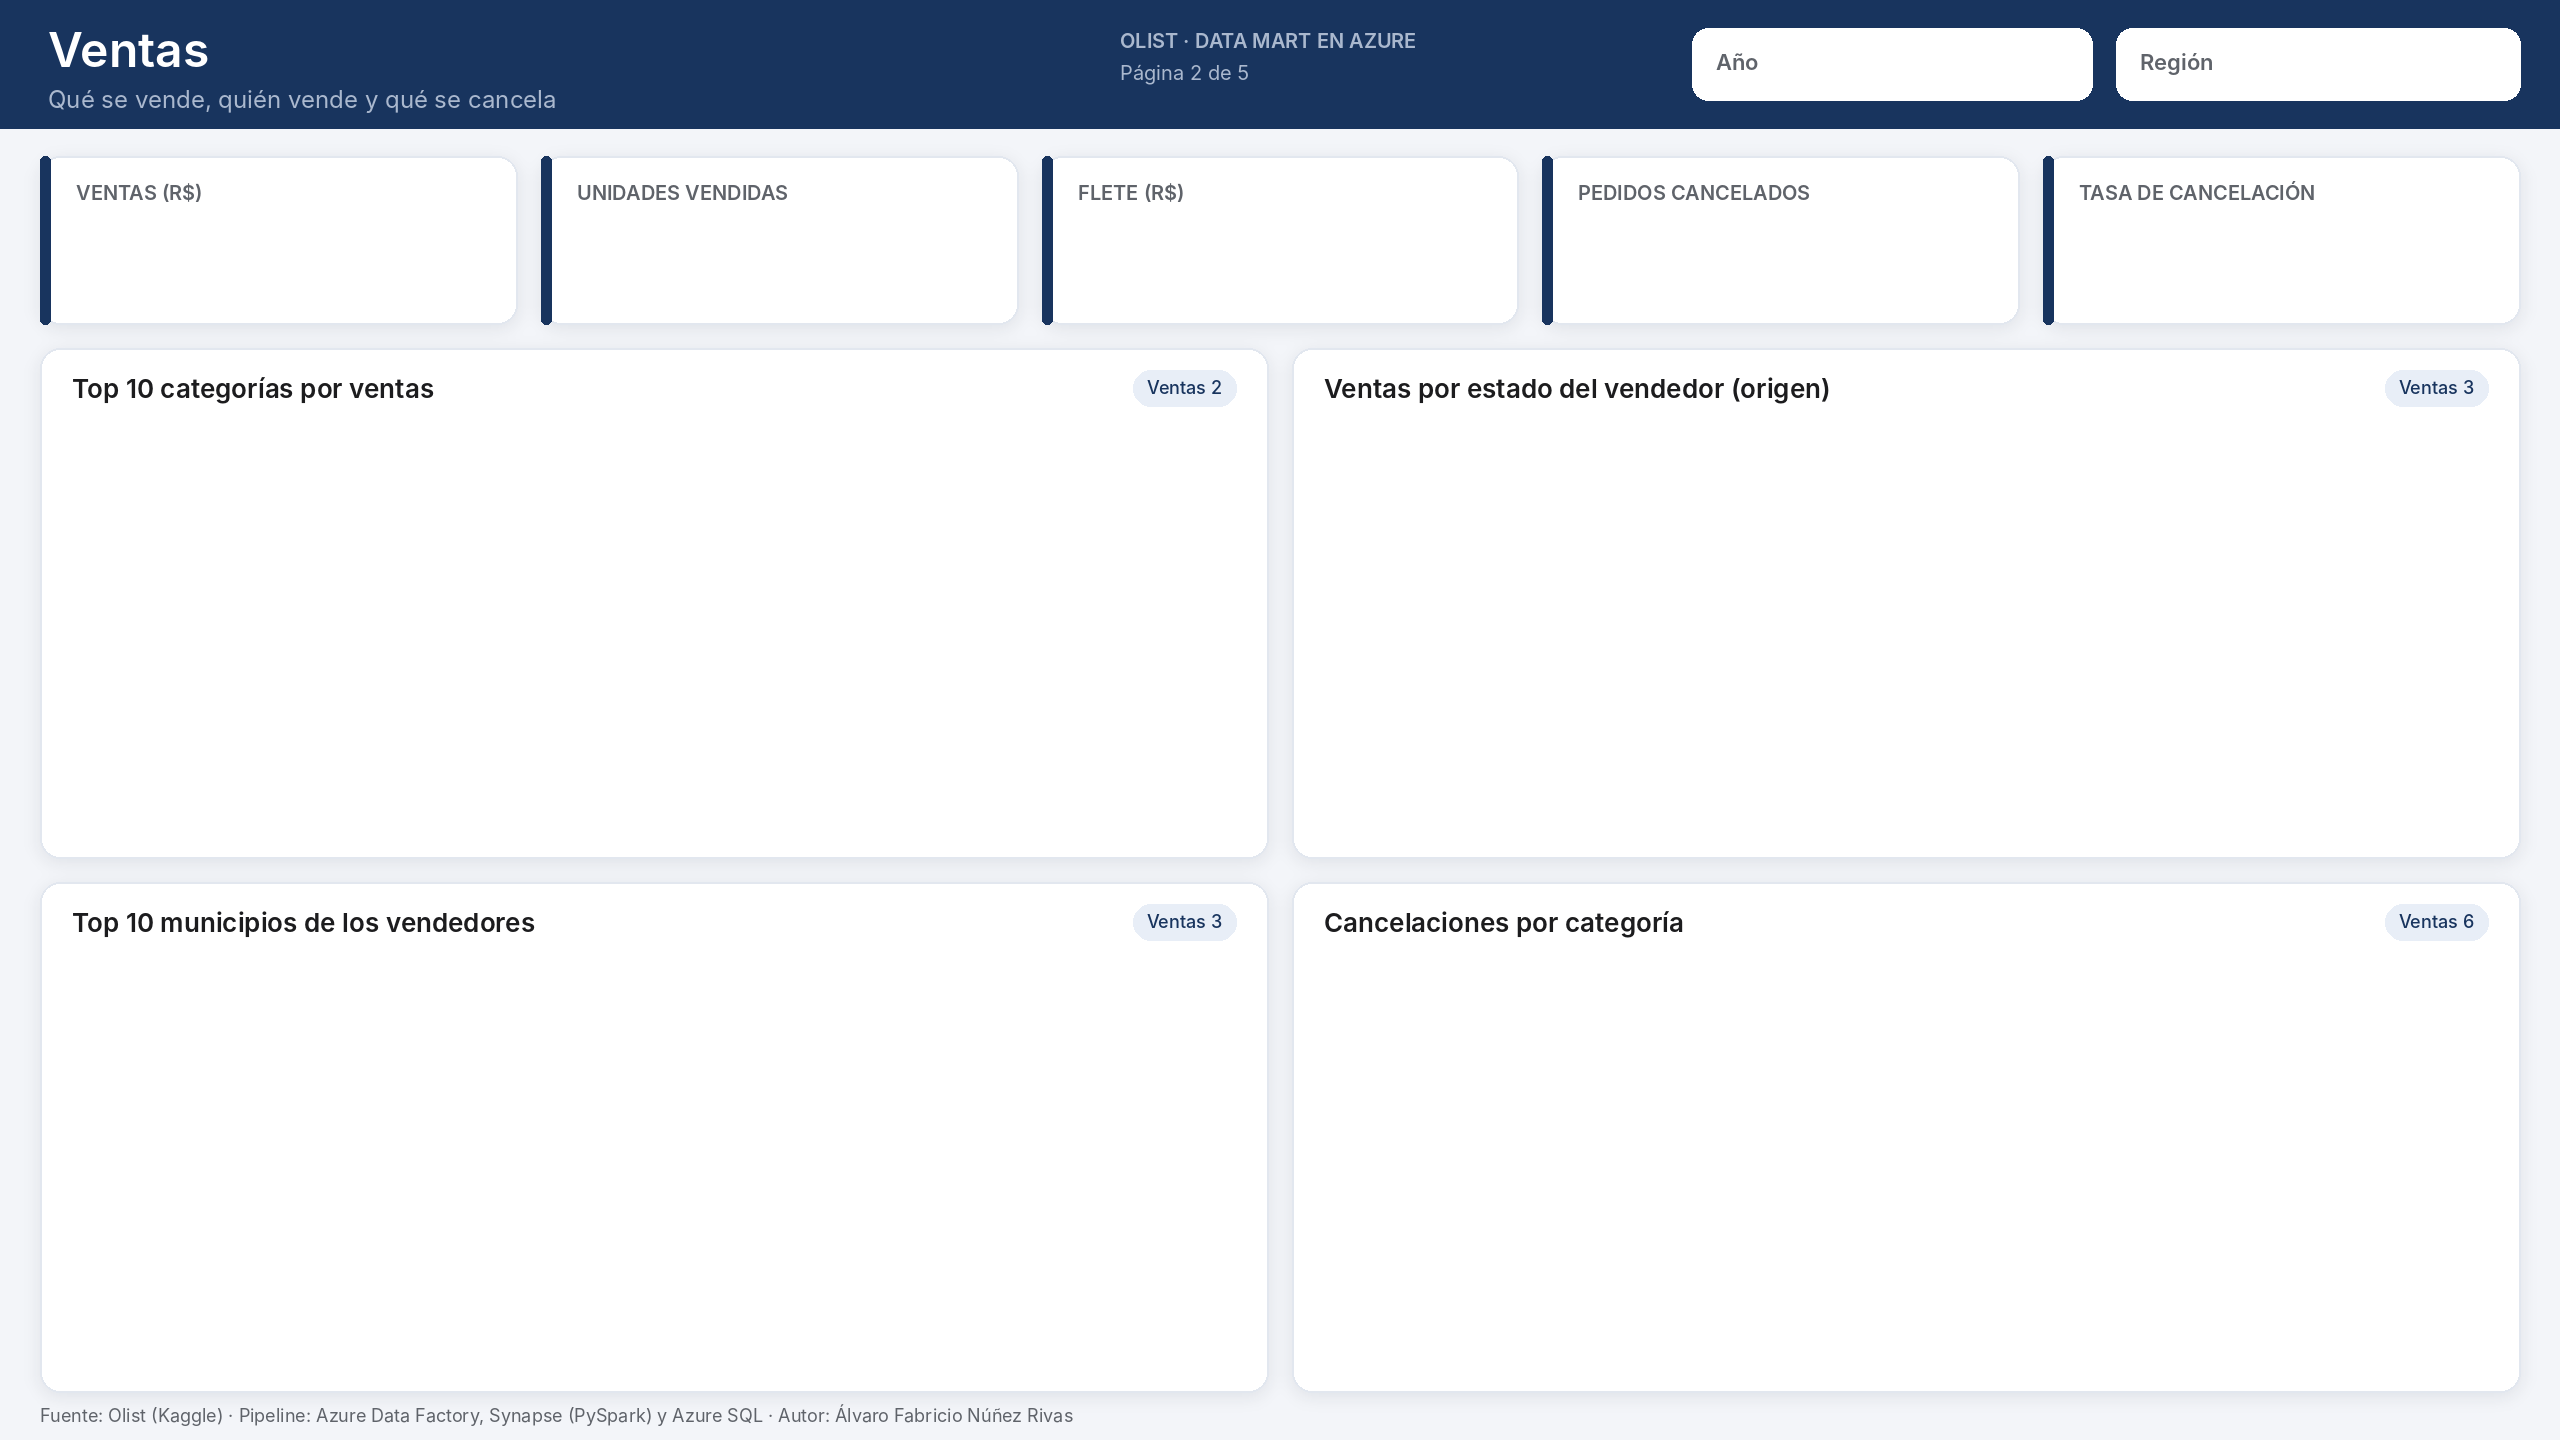

What the dashboard file says about the page in this screenshot:
{"tool":"powerbi","page":{"name":"Ventas","canvas":[1280,720],"ordinal":1},"visuals":[{"type":"slicer","fields":{"Values":["dim_fecha.anio"]},"box":[890,17,150,30],"z":0},{"type":"slicer","fields":{"Values":["dim_ubicacion.region"]},"box":[1112,17,144,30],"z":1},{"type":"card","fields":{"Values":["_Medidas.Ventas"]},"box":[28,100,226,60],"z":2},{"type":"card","fields":{"Values":["_Medidas.Unidades vendidas"]},"box":[278,100,226,60],"z":3},{"type":"card","fields":{"Values":["_Medidas.Flete"]},"box":[529,100,226,60],"z":4},{"type":"card","fields":{"Values":["_Medidas.Pedidos cancelados"]},"box":[779,100,226,60],"z":5},{"type":"card","fields":{"Values":["_Medidas.Tasa de cancelación"]},"box":[1030,100,226,60],"z":6},{"type":"clusteredBarChart","fields":{"Category":["dim_producto.categoria_en"],"Y":["_Medidas.Ventas"]},"box":[28,210,598,211],"z":7},{"type":"clusteredBarChart","fields":{"Category":["dim_vendedor.estado"],"Y":["_Medidas.Ventas"]},"box":[654,210,598,211],"z":8},{"type":"clusteredBarChart","fields":{"Category":["dim_vendedor.municipio"],"Y":["_Medidas.Ventas"]},"box":[28,477,598,211],"z":9},{"type":"clusteredBarChart","fields":{"Category":["dim_producto.categoria_en"],"Y":["_Medidas.Pedidos cancelados con productos"]},"box":[654,477,598,211],"z":10}]}

Visuals, with their boxes in screenshot pixels (x1, y1, x2, y2), scaled from the page's 1280x720 canvas onto the 2560x1440 screenshot:
slicer - dim_fecha.anio: 1780 34 2080 94
slicer - dim_ubicacion.region: 2224 34 2512 94
card - _Medidas.Ventas: 56 200 508 320
card - _Medidas.Unidades vendidas: 556 200 1008 320
card - _Medidas.Flete: 1058 200 1510 320
card - _Medidas.Pedidos cancelados: 1558 200 2010 320
card - _Medidas.Tasa de cancelación: 2060 200 2512 320
clusteredBarChart - dim_producto.categoria_en x _Medidas.Ventas: 56 420 1252 842
clusteredBarChart - dim_vendedor.estado x _Medidas.Ventas: 1308 420 2504 842
clusteredBarChart - dim_vendedor.municipio x _Medidas.Ventas: 56 954 1252 1376
clusteredBarChart - dim_producto.categoria_en x _Medidas.Pedidos cancelados con productos: 1308 954 2504 1376
